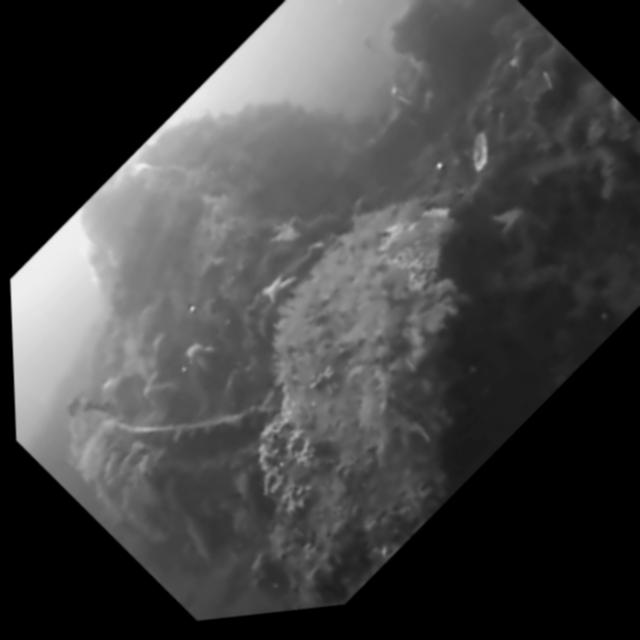Oyster-Indeterminate: (278, 208, 458, 595), (149, 112, 365, 218), (83, 156, 222, 312)
